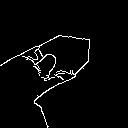cube: (33, 30, 103, 79)
